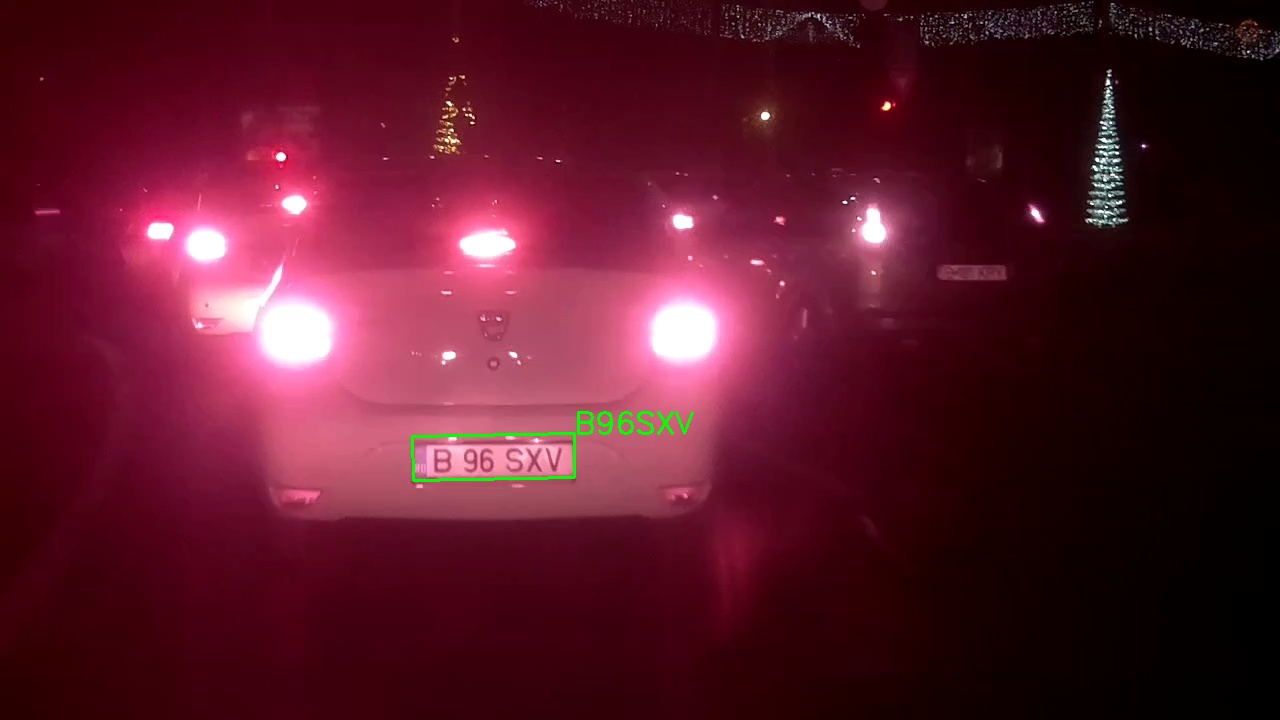license-plate: (412, 432, 576, 481)
